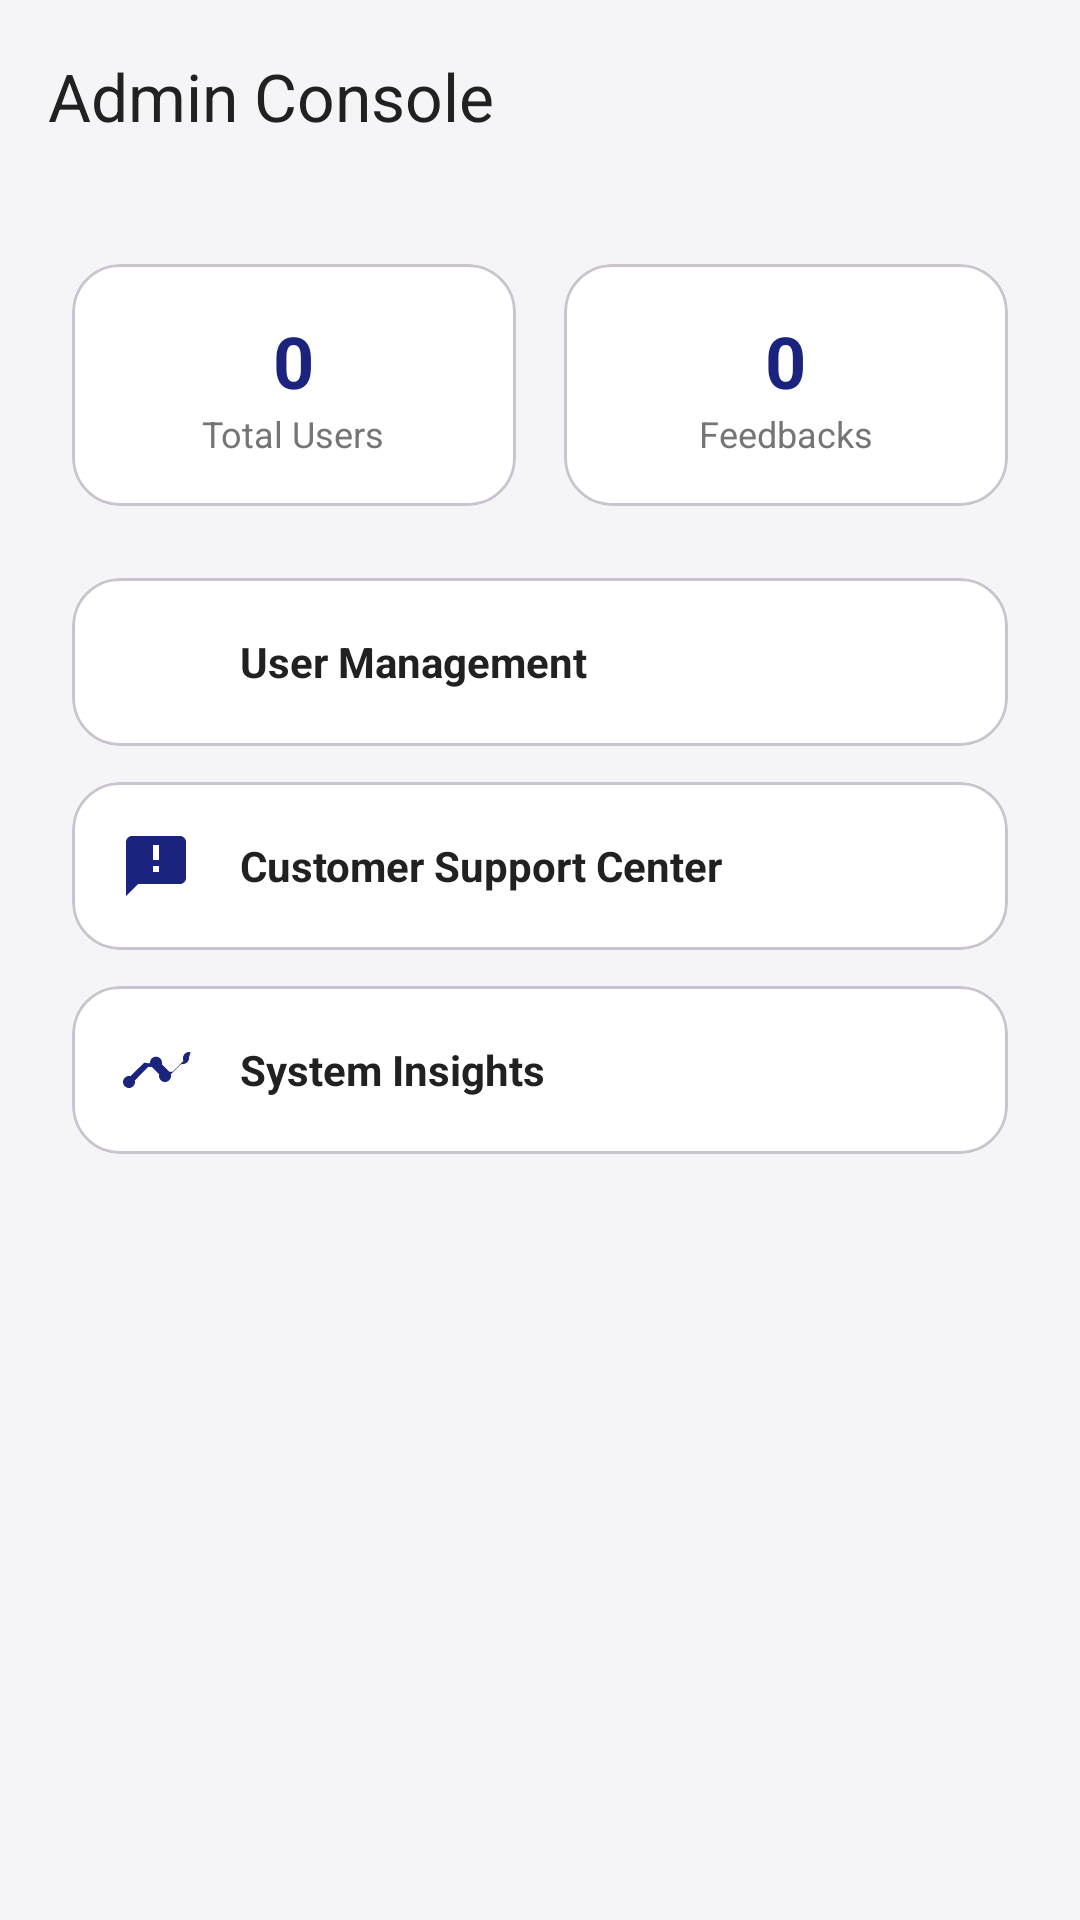

Point at icon controls on the screen. Image size 1080*1920, points as (x=x, y=y).
feedback: (x=156, y=866)
